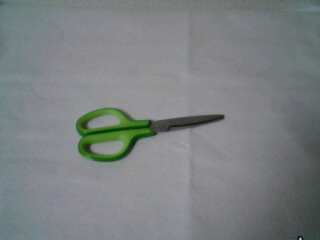003_classes: (68, 98, 227, 164)
